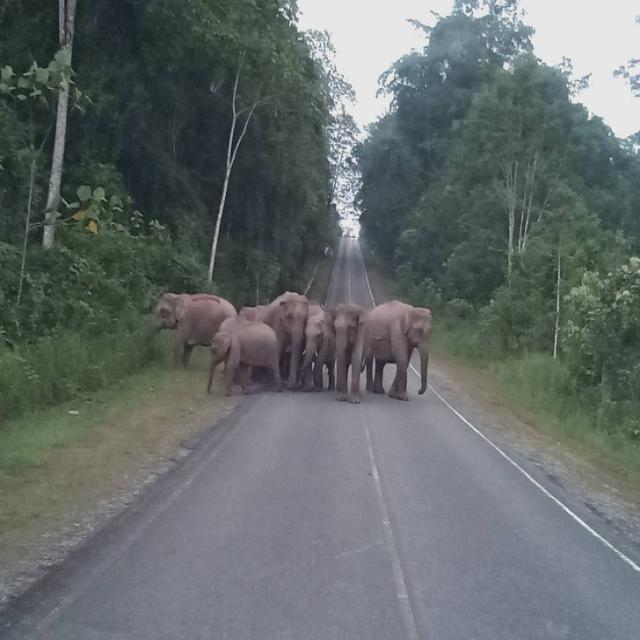Elephant: (362, 273, 442, 430), (137, 270, 223, 360), (202, 321, 292, 401), (327, 289, 370, 402), (264, 281, 306, 383), (303, 274, 332, 417)
